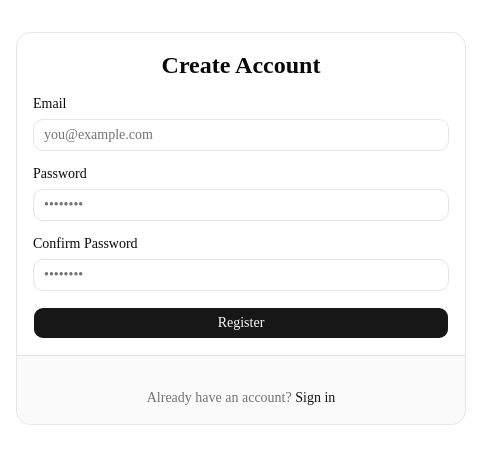
Test: RegisterPage › shows error for password mismatch
This screenshot has width=483, height=458.
Type "test@example.com" into the field labelled "Email" at (241, 134), box [33,118,449,150]
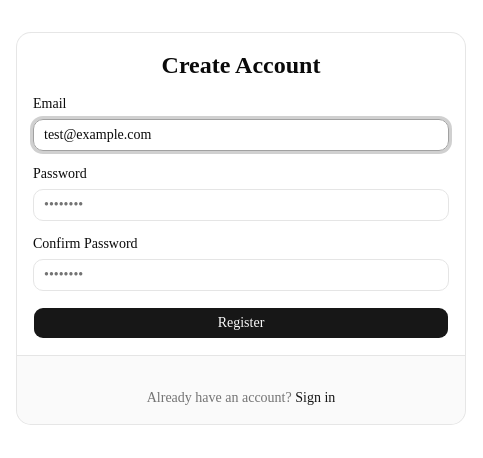
Type "password123" into the password field labelled "Password" at (241, 204), box [33,188,449,220]
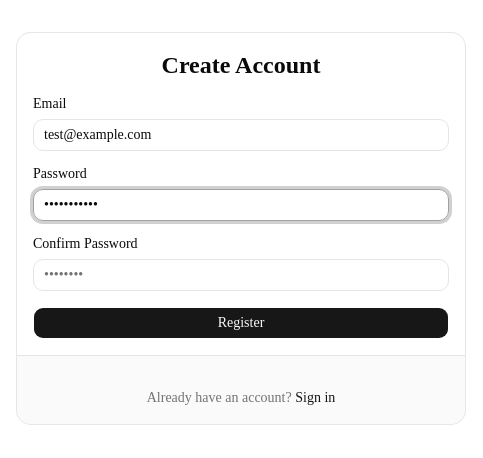
Type "different" into the password field labelled "Confirm Password" at (241, 274), box [33,258,449,290]
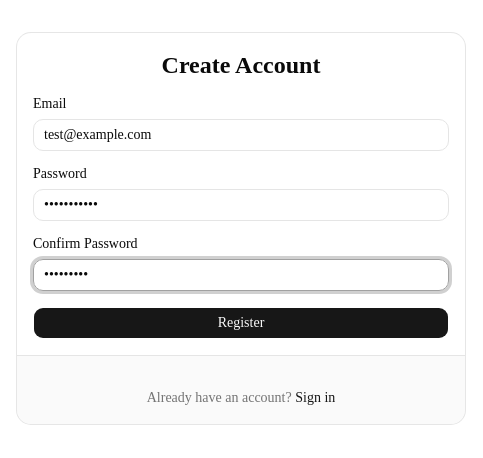
Click the button "Register" at (241, 322), box [33,306,449,338]
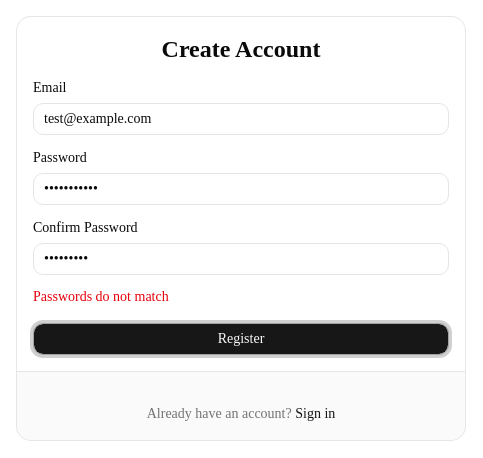
Result: the text "Passwords do not match" is shown at [33,288,169,304]
